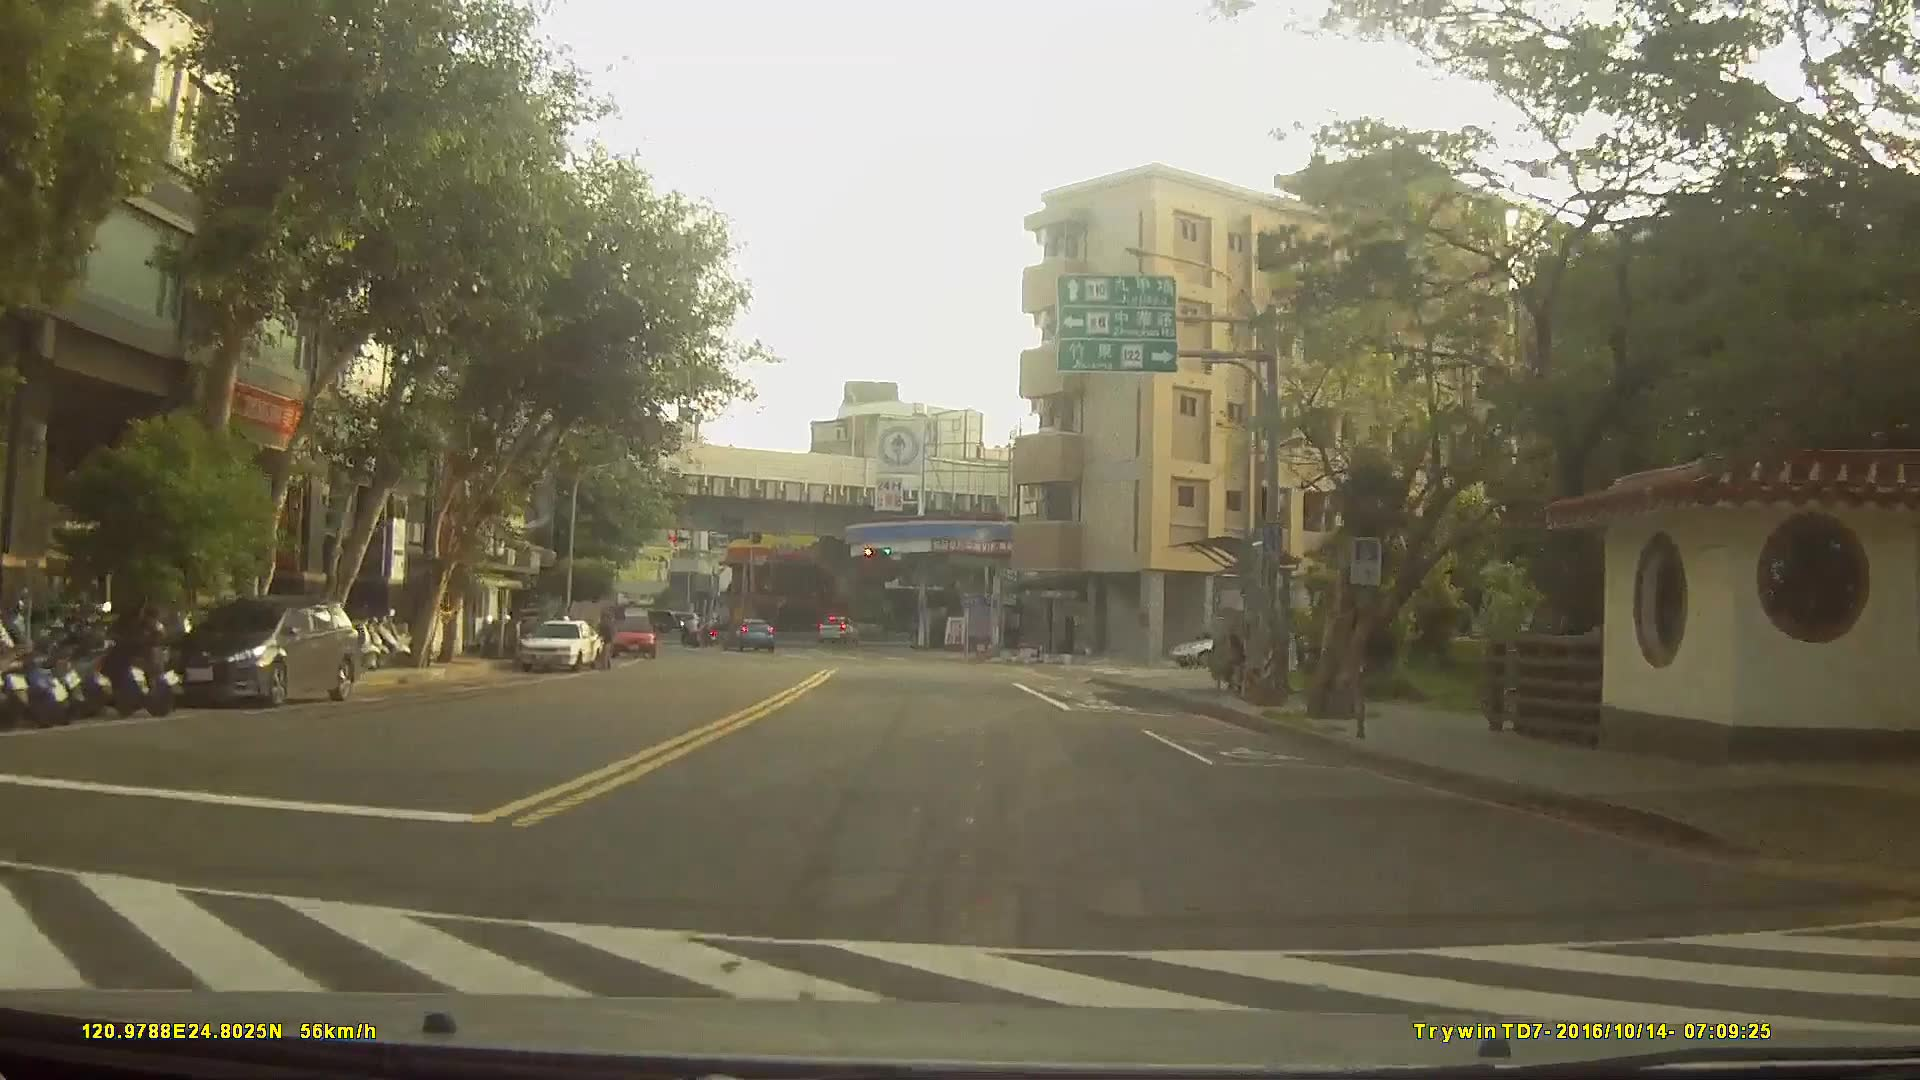rider: (679, 614, 702, 651)
vehicle: (168, 593, 357, 707), (518, 617, 604, 673), (611, 614, 656, 659), (722, 616, 775, 651), (819, 613, 860, 641)
